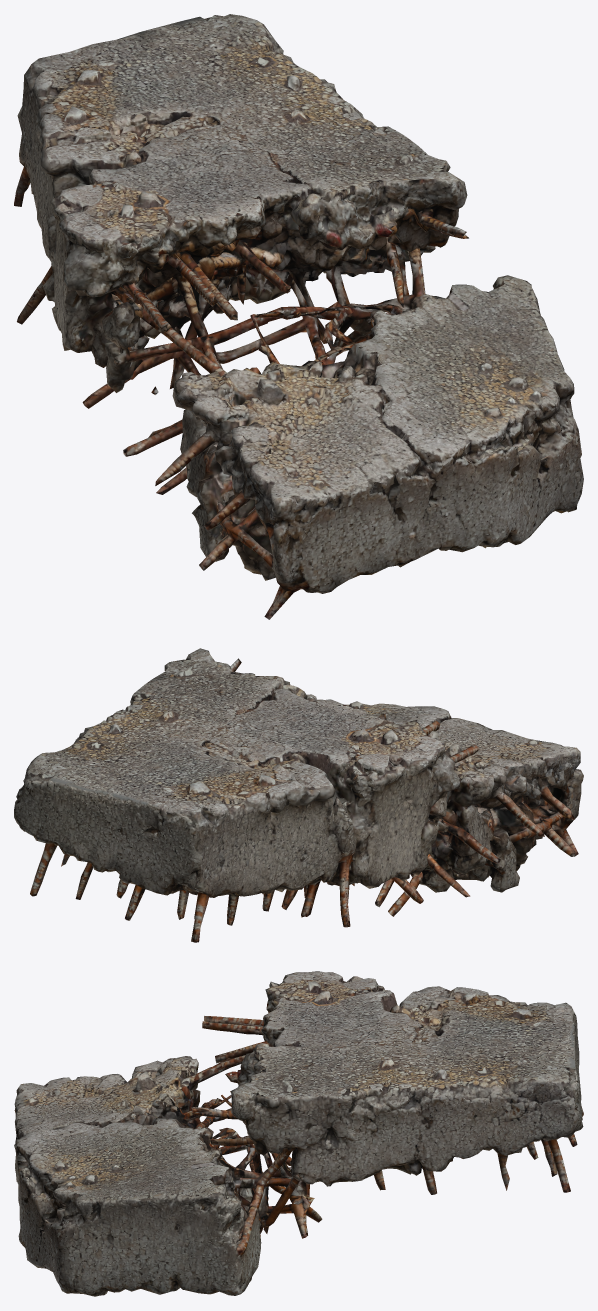
The model's file is BKI_SlabHanging.fbx.
3 views of the same model, one above another, from view 1: azimuth 30°, elevation 25°; view 2: azimuth 150°, elevation 25°; view 3: azimuth 270°, elevation 25° (orthographic). The views are drawn at different scales.
Parts seen in each view (by area): view 1: texture_mapping; view 2: texture_mapping; view 3: texture_mapping.
Part boxes in pixels (x1,y1,x2,y2): texture_mapping: (14, 14, 583, 619); texture_mapping: (14, 648, 583, 942); texture_mapping: (14, 971, 583, 1296).
Size of the model in its own units: 0.683 by 0.9994 by 0.4272.
Materials: 1 (1 with a texture image).
